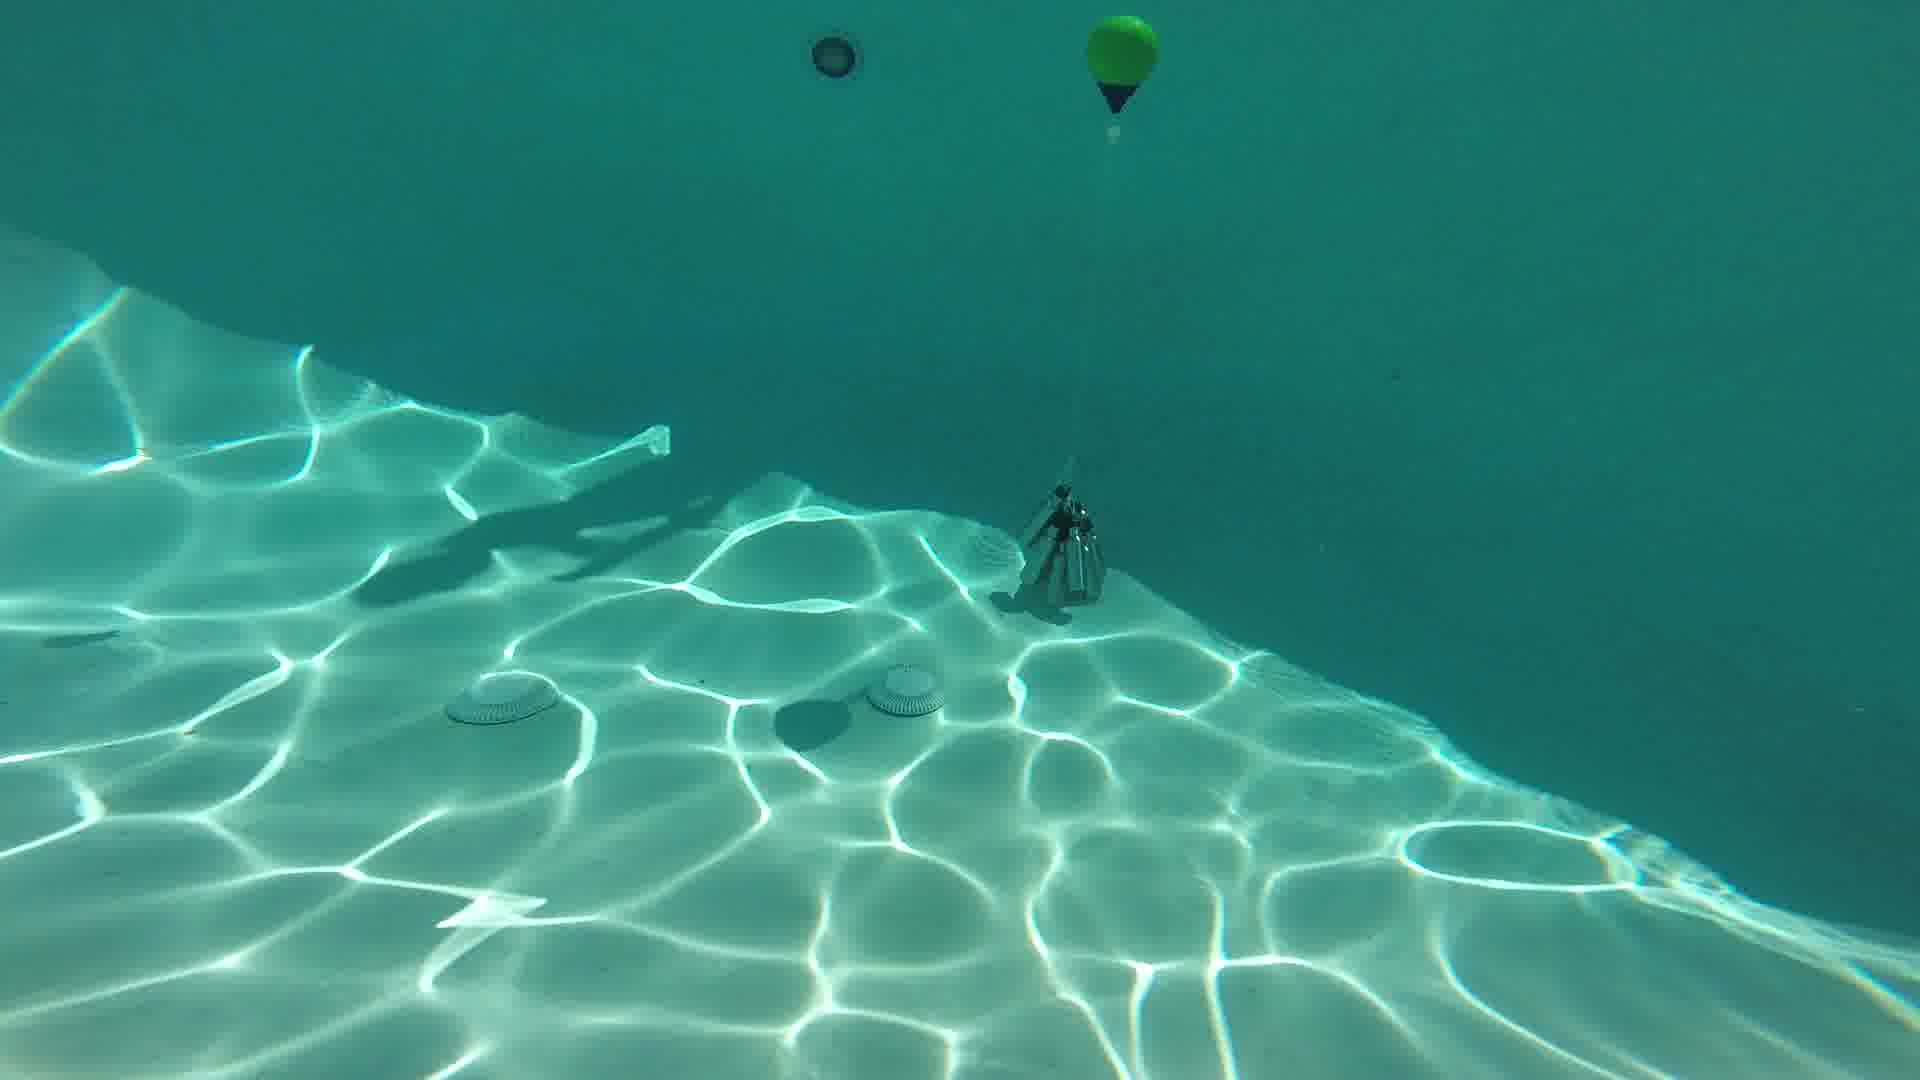yellow_buoy: (1085, 15, 1162, 146)
